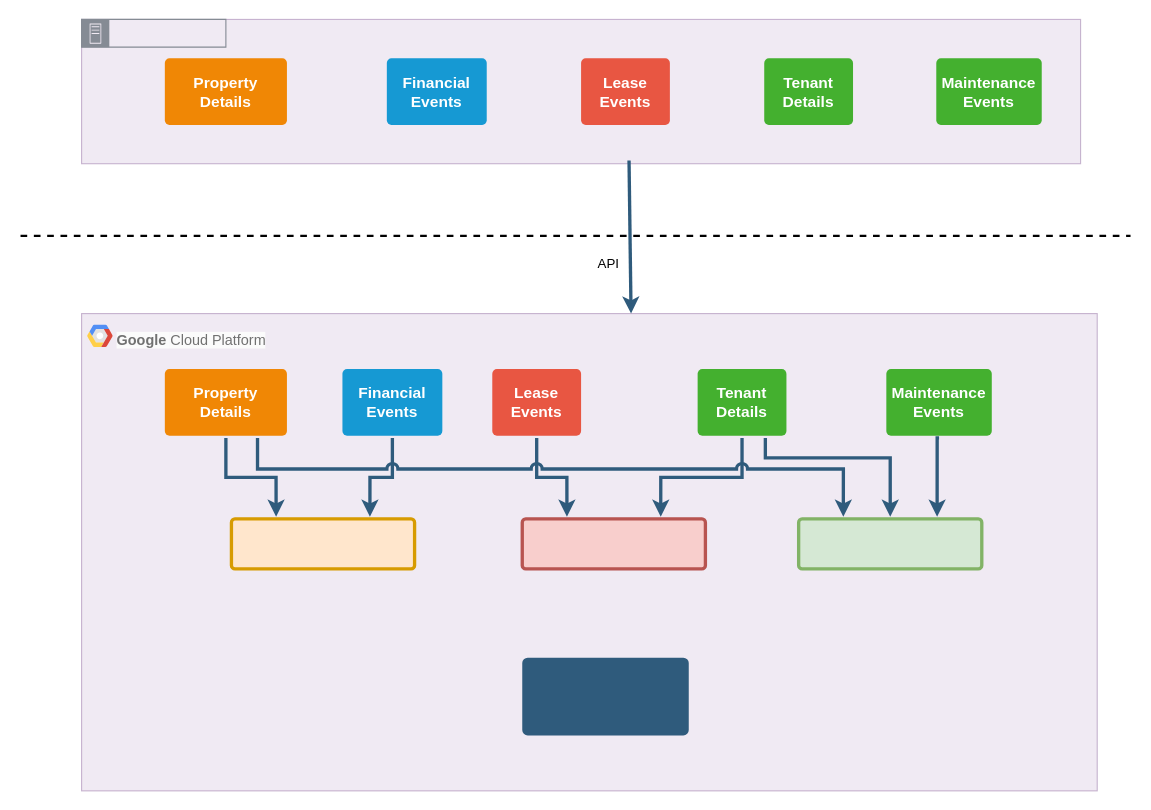
The diagram is 1151 pixels wide and 810 high, and some of its shapes have lost their labels. The shapes that lost their labels are listed below. From the top down, each one's centre as x and y in pixels, then its label:
the point at 153,32: On-Premise
the point at 322,543: Property_Financials
the point at 613,543: Tenancy_Lease
the point at 889,543: Maintenances
the point at 605,696: Advertising
